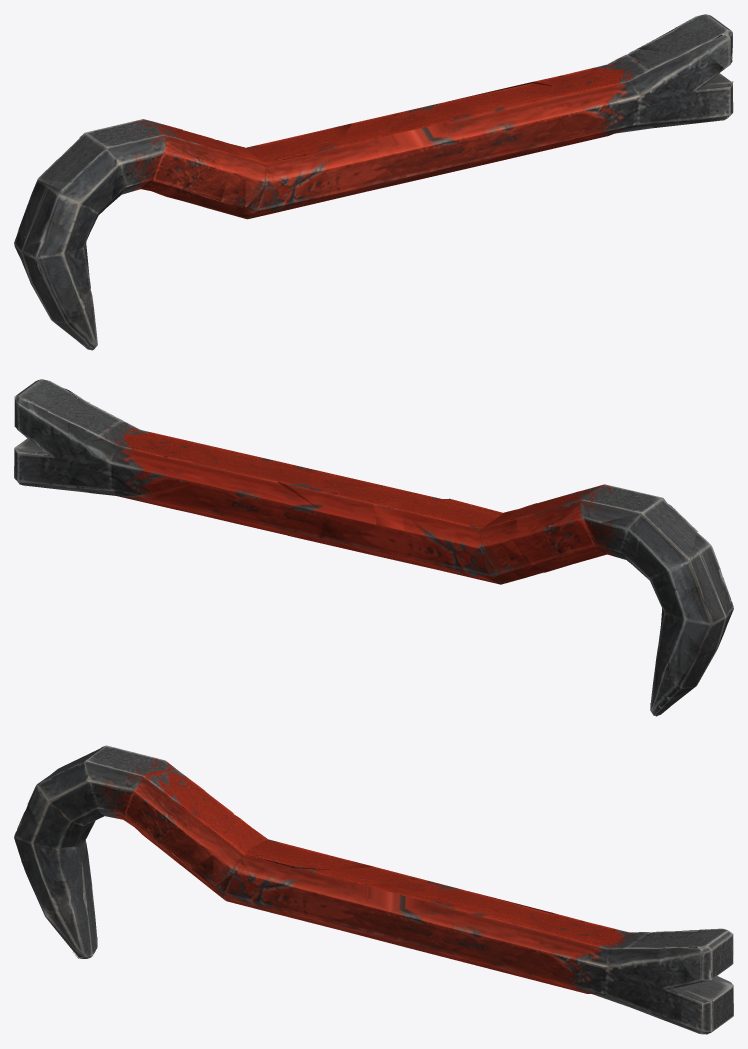
Rendered from crowbar_scrap_lod1.glb.
3 views of the same model, one above another, from view 1: azimuth 30°, elevation 25°; view 2: azimuth 150°, elevation 25°; view 3: azimuth 330°, elevation 25° (orthographic).
Parts seen in each view (by area): view 1: LOD1; view 2: LOD1; view 3: LOD1.
Boxes of the visible parts, bbox=[...] form: LOD1: bbox=[14, 14, 733, 350]; LOD1: bbox=[14, 379, 733, 716]; LOD1: bbox=[14, 745, 733, 1034].
Bounding box in the file's own units: 0.3804 × 0.1075 × 0.0311.
1 material, 1 textured.
